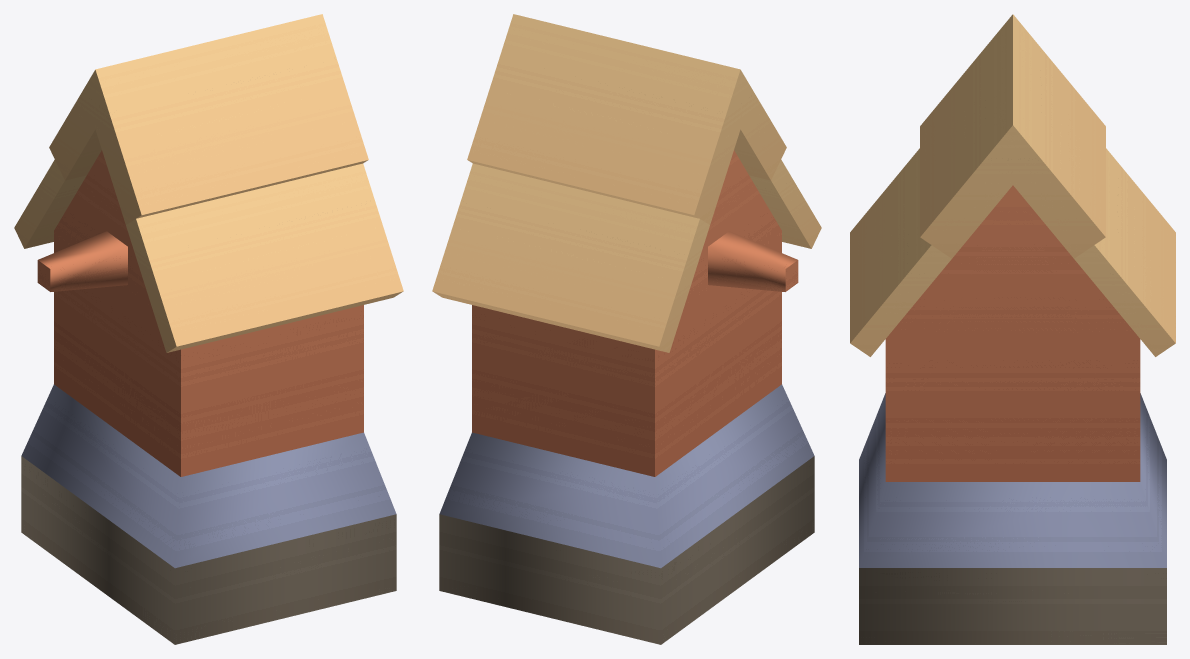
Rendered from hx_unit-mill.glb.
The picture shows the model from 3 angles, left to right: view 1: azimuth 30°, elevation 25°; view 2: azimuth 150°, elevation 25°; view 3: azimuth 270°, elevation 25°; orthographic projection.
Size of the model in its own units: 0.38 by 0.6781 by 0.384.
1 material, 1 textured.
